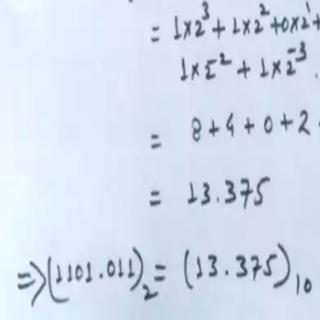.: (214, 195, 221, 204), (98, 271, 104, 280), (223, 269, 229, 278)
0: (263, 113, 273, 136), (106, 259, 116, 278), (280, 15, 290, 32), (74, 263, 83, 281), (303, 277, 312, 295)
1: (172, 13, 182, 41), (186, 181, 197, 205), (258, 55, 269, 78), (179, 58, 189, 82), (53, 262, 63, 285), (126, 254, 135, 279), (195, 254, 204, 279), (230, 16, 241, 35), (293, 273, 301, 298), (85, 259, 93, 283), (116, 256, 124, 279), (66, 263, 73, 283), (304, 1, 314, 13)
2: (297, 109, 311, 137), (140, 283, 159, 303), (202, 63, 217, 80), (218, 50, 233, 66), (194, 18, 206, 38), (252, 16, 264, 35), (284, 59, 297, 76), (257, 2, 271, 17), (300, 14, 310, 30)
3: (205, 253, 220, 280), (234, 252, 248, 279), (222, 178, 236, 204), (200, 181, 211, 205), (298, 39, 309, 63), (200, 1, 211, 22)
4: (223, 112, 238, 139)
5: (254, 176, 271, 206), (264, 253, 278, 278)
7: (238, 176, 254, 211), (249, 253, 262, 281)
8: (189, 115, 205, 144)
